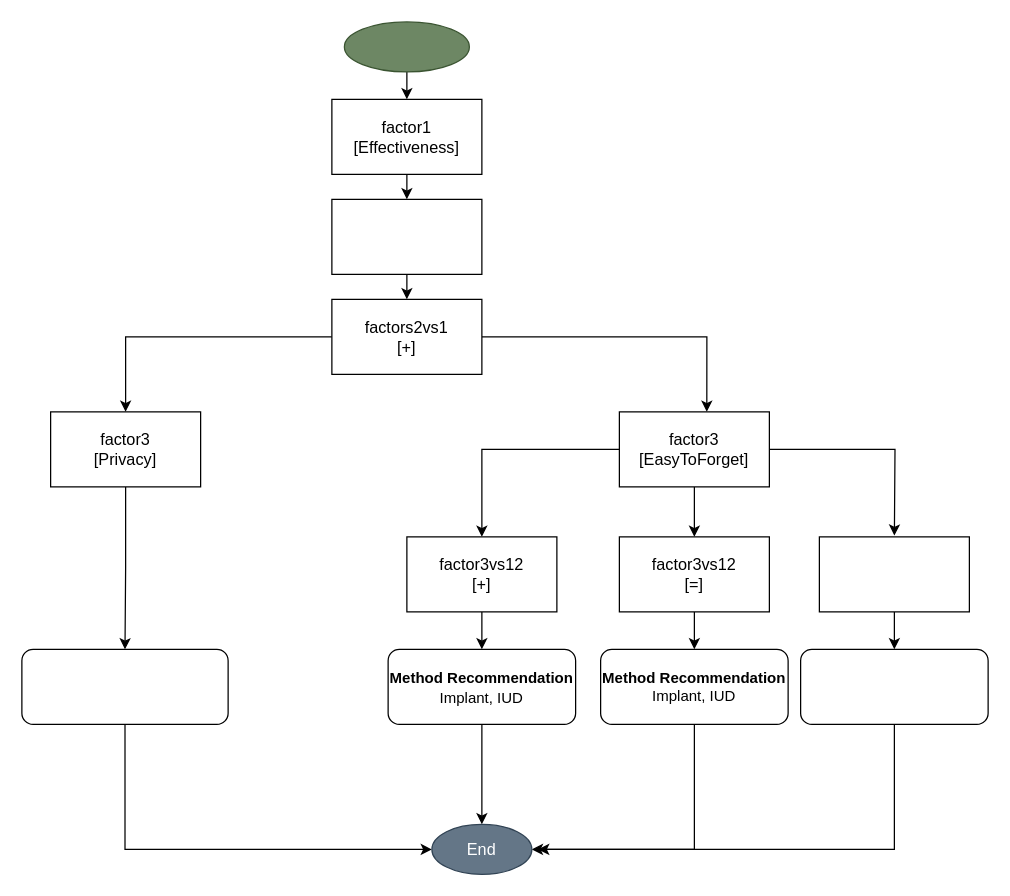
Image size: 1010x896. Some labels were removed from this diagram. Here are the shapes that lost their labels. From the top down, the centre of each, then its label:
At pixel 406 46: "Start".
At pixel 406 236: "factor2 [EasyToStop]".
At pixel 893 574: "factor3vs12 [-]".
At pixel 124 686: "Method Recommendation EC, Injectables, IUD".
At pixel 893 686: "Method Recommendation EC, COP, IUD".
